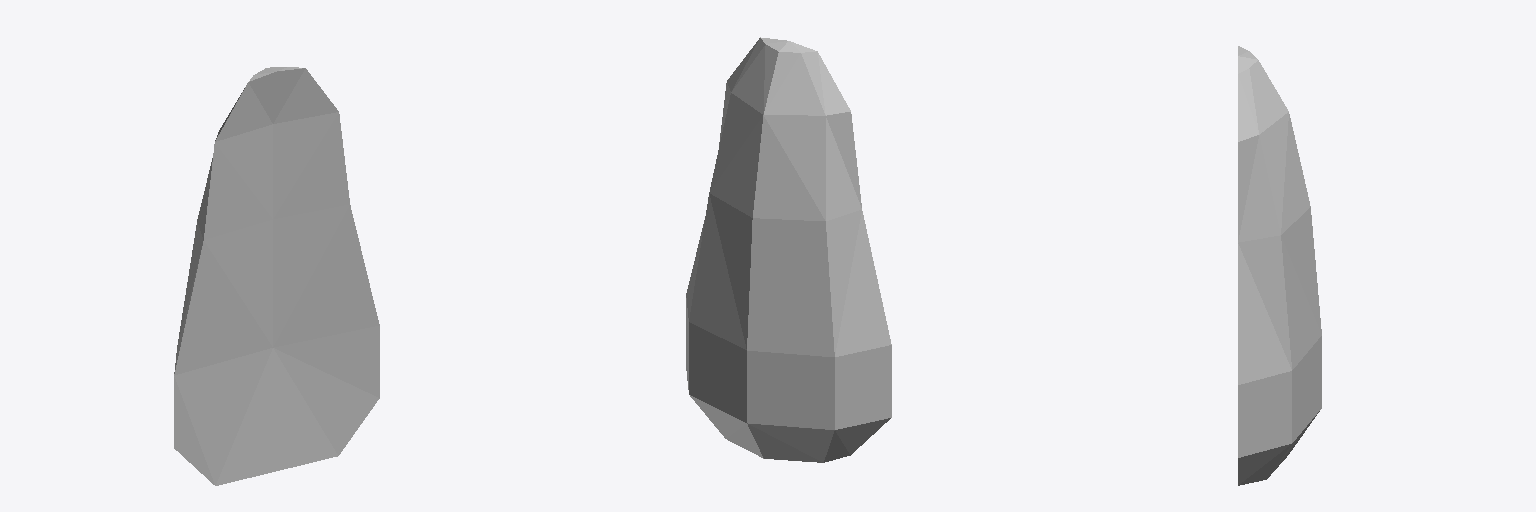
The model's file is serpent_bjaw.obj.
3 views of the same model, side by side, from view 1: azimuth 30°, elevation 25°; view 2: azimuth 150°, elevation 25°; view 3: azimuth 270°, elevation 25° (orthographic).
Parts seen in each view (by area): view 1: Head_Bottom; view 2: Head_Bottom; view 3: Head_Bottom.
Boxes of the visible parts, x1=… form: Head_Bottom: x1=174, y1=67, x2=379, y2=485; Head_Bottom: x1=686, y1=37, x2=891, y2=462; Head_Bottom: x1=1238, y1=46, x2=1321, y2=485.
Size of the model in its own units: 1.78 by 3.31 by 0.6316.